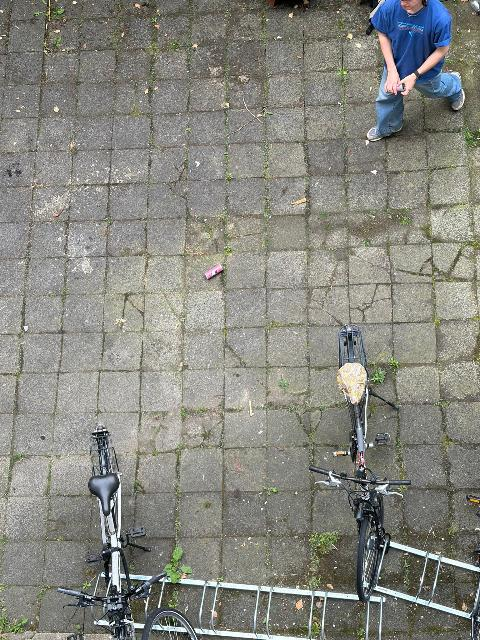can: (205, 265, 225, 279)
